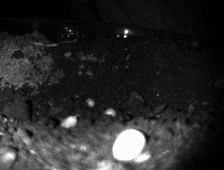corn: (110, 125, 150, 163), (59, 114, 80, 128), (102, 105, 118, 118), (83, 95, 97, 109)
